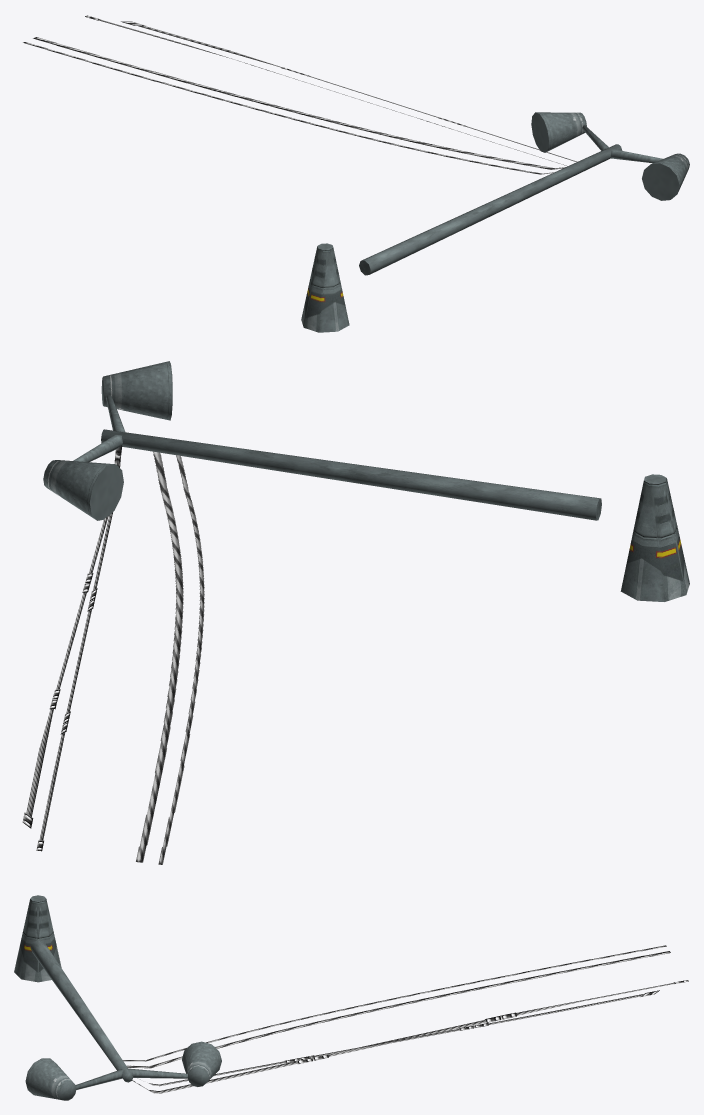
File: pbtele04.FBX
3 renders of one model, top to bottom at view 1: azimuth 30°, elevation 25°; view 2: azimuth 150°, elevation 25°; view 3: azimuth 270°, elevation 25°, orthographic. The views are drawn at different scales.
Visible parts, largest first — view 1: pbtele04, lines4__2; view 2: pbtele04, lines4__2; view 3: pbtele04, lines4__2.
Part boxes in pixels (box(x1,y1,x2,y2)): pbtele04: box(301, 112, 689, 332); lines4__2: box(23, 15, 577, 174); pbtele04: box(43, 361, 689, 601); lines4__2: box(22, 445, 204, 864); pbtele04: box(14, 895, 221, 1100); lines4__2: box(123, 945, 688, 1093).
Bounding box in the file's own units: 10.99 × 16.69 × 2.
